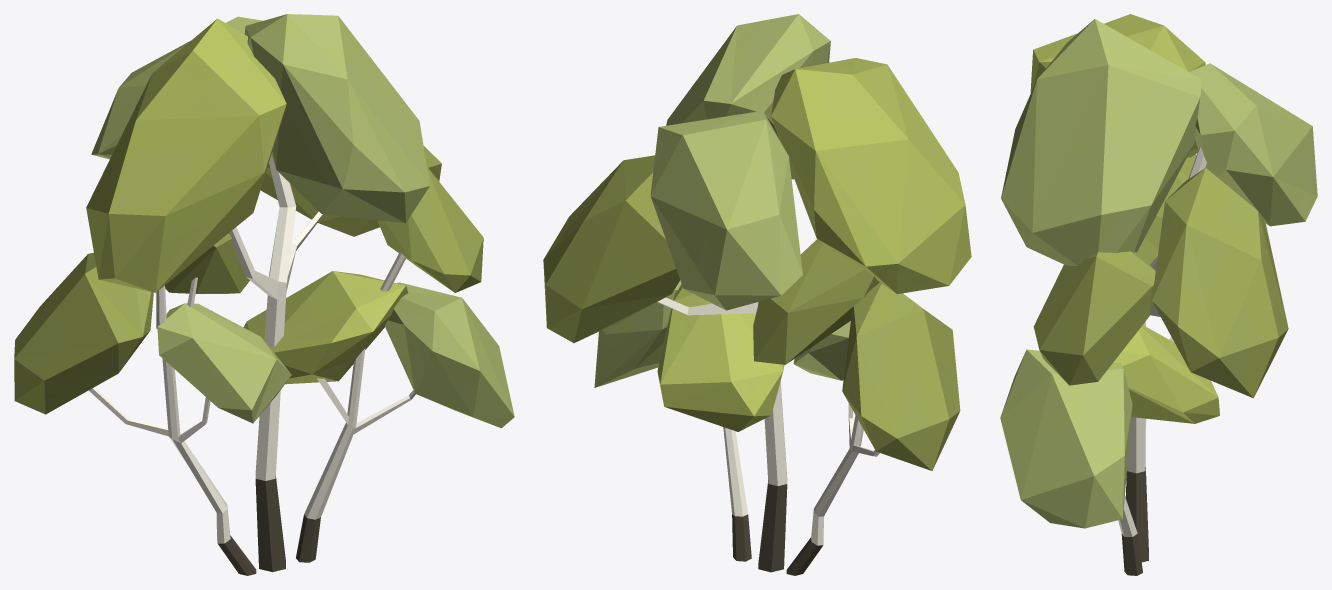
The model's file is LPTree_Tree_Type5_04_Model_instanced_l1.glb.
3 views of the same model, side by side, from view 1: azimuth 30°, elevation 25°; view 2: azimuth 150°, elevation 25°; view 3: azimuth 270°, elevation 25° (orthographic). The views are drawn at different scales.
Parts seen in each view (by area): view 1: Tree Type5 04 Model; view 2: Tree Type5 04 Model; view 3: Tree Type5 04 Model.
Part boxes in pixels (<box>): Tree Type5 04 Model: <box>14,14,514,575</box>; Tree Type5 04 Model: <box>543,14,971,575</box>; Tree Type5 04 Model: <box>1000,14,1317,575</box>.
Size of the model in its own units: 3.08 by 3.92 by 2.1.
1 material, 1 textured.
